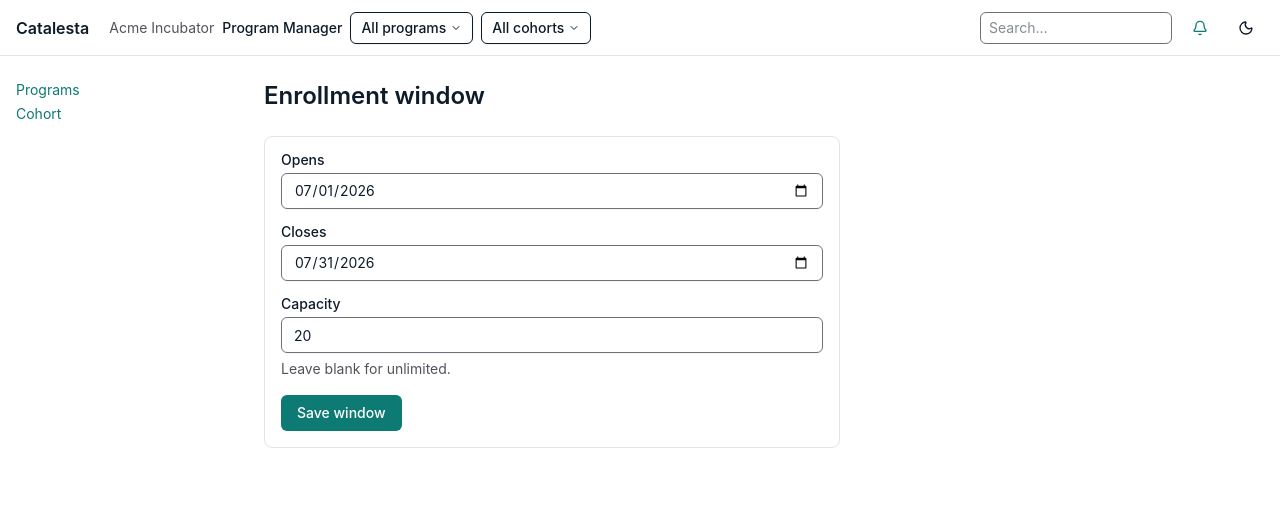
Test: loads the cohort window and saves a PATCH with the edited dates + capacity
The width and height of the screenshot is (1280, 527).
Replace the text in the number field labelled "Capacity" with "30" at (552, 335), box [281,317,823,353]
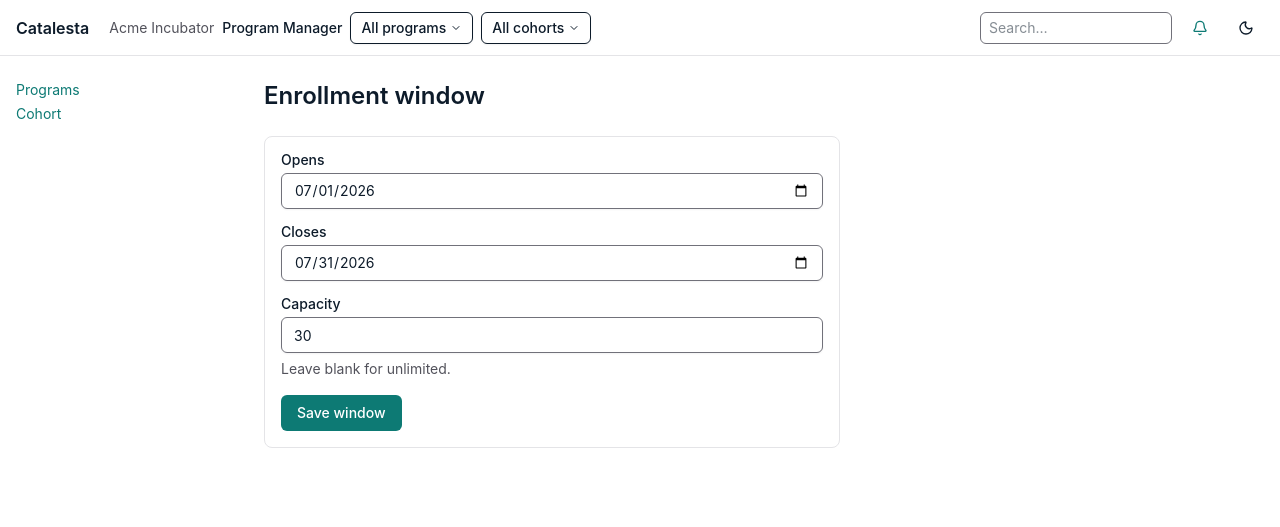
Click the button "Save window" at (341, 413), box [281,395,402,431]
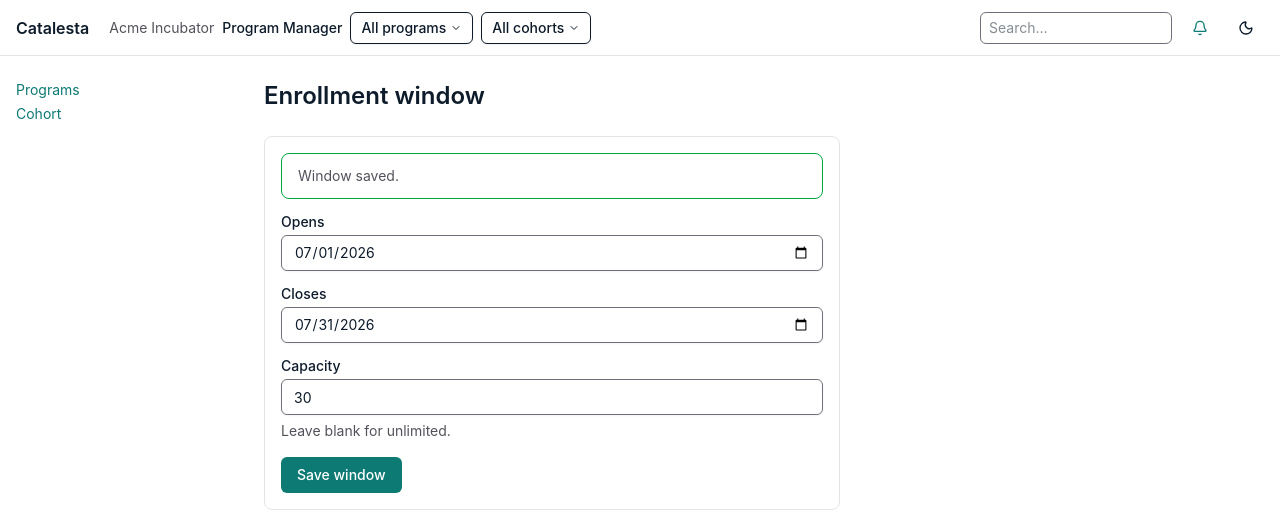
expect the text "Window saved." is shown: met, box [298,167,399,184]
